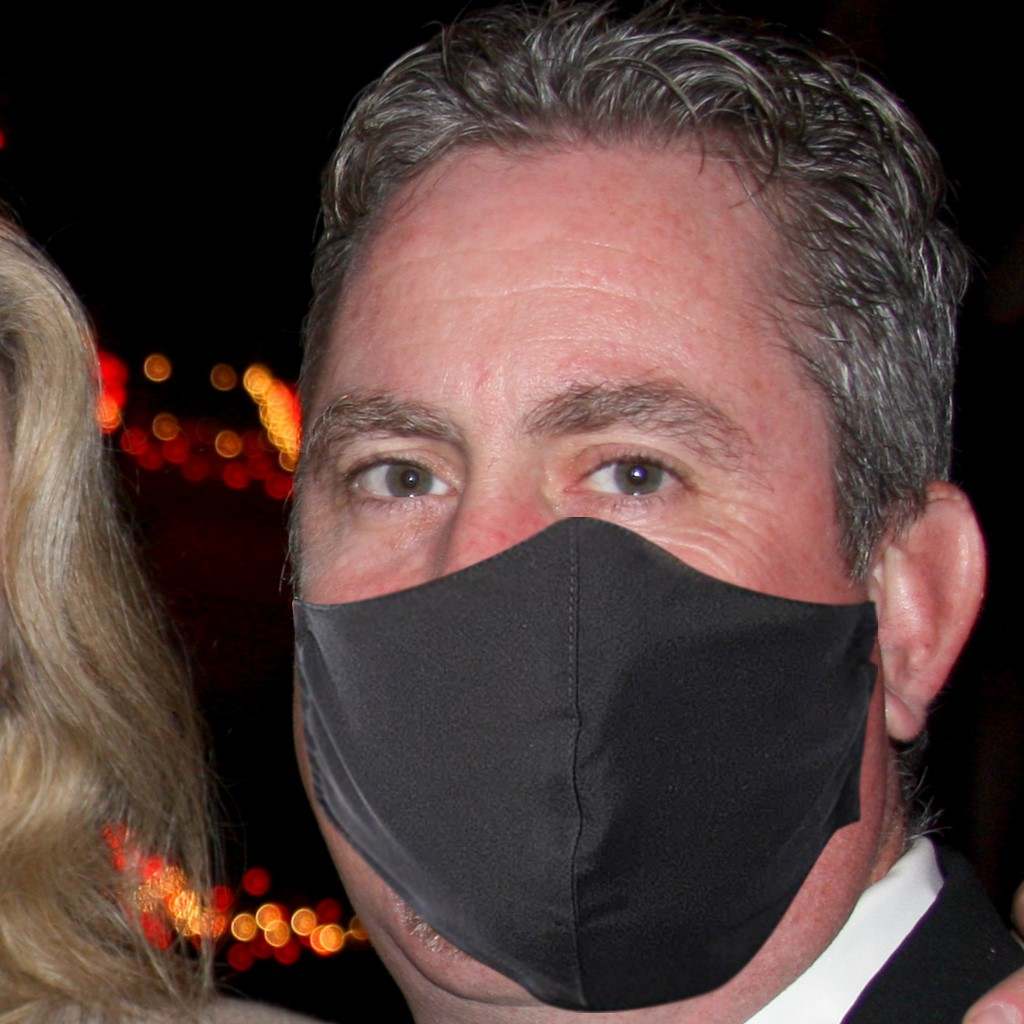con_mascara: (301, 128, 891, 1006)
